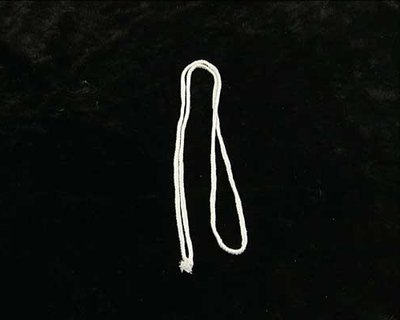9/可回收垃圾/绳子: (173, 59, 248, 273)
